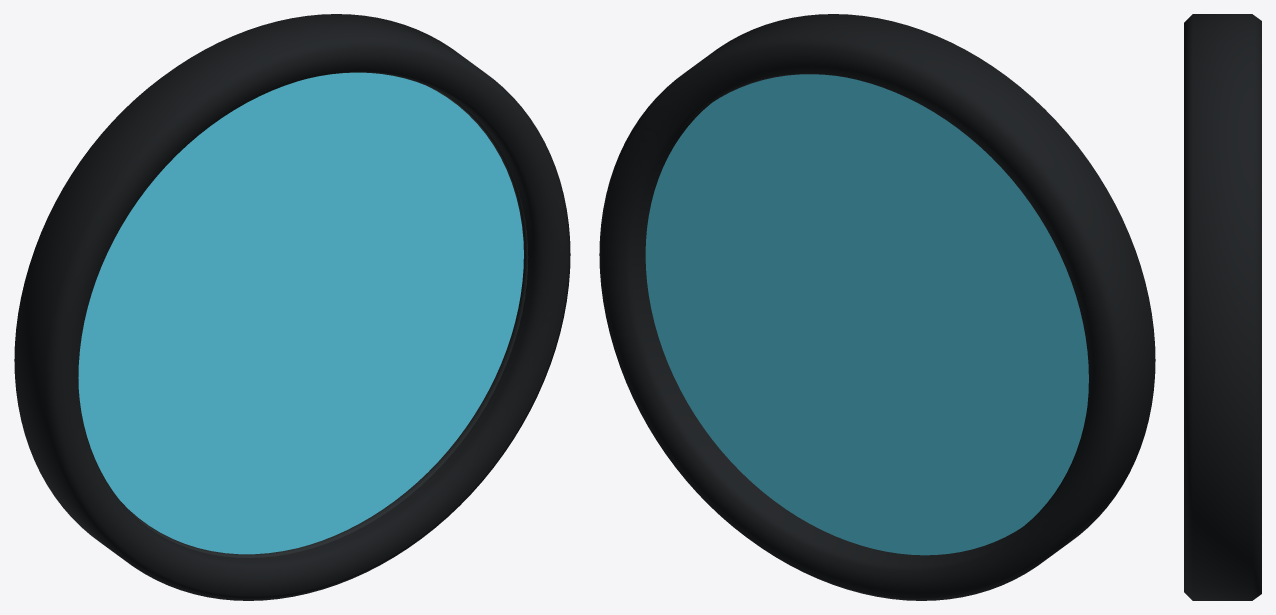
Rendered from filter_blue.glb.
3 views of the same model, side by side, from view 1: azimuth 30°, elevation 25°; view 2: azimuth 150°, elevation 25°; view 3: azimuth 270°, elevation 25° (orthographic). The views are drawn at different scales.
Visible parts, largest first — view 1: Filter_Blue_OpticalElement, Filter_Blue_Frame, Filter_Blue_RetainingRim; view 2: Filter_Blue_OpticalElement, Filter_Blue_Frame; view 3: Filter_Blue_Frame.
Part boxes in pixels (left/top/right/bottom): Filter_Blue_OpticalElement: left=78, top=72, right=523, bottom=554; Filter_Blue_Frame: left=14, top=14, right=570, bottom=600; Filter_Blue_RetainingRim: left=121, top=85, right=528, bottom=558; Filter_Blue_OpticalElement: left=645, top=74, right=1088, bottom=555; Filter_Blue_Frame: left=599, top=14, right=1155, bottom=600; Filter_Blue_Frame: left=1184, top=14, right=1261, bottom=600.
Bounding box in the file's own units: 0.068 × 0.068 × 0.009.
